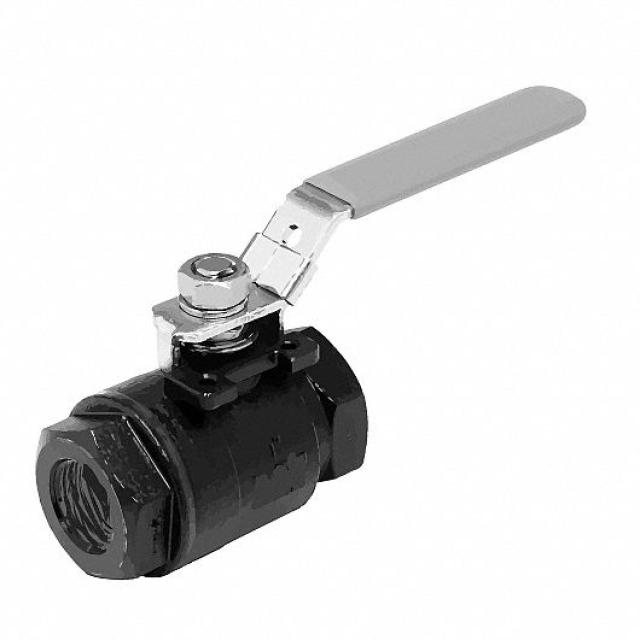Lever Handle Valve Threaded: (28, 71, 628, 416)
